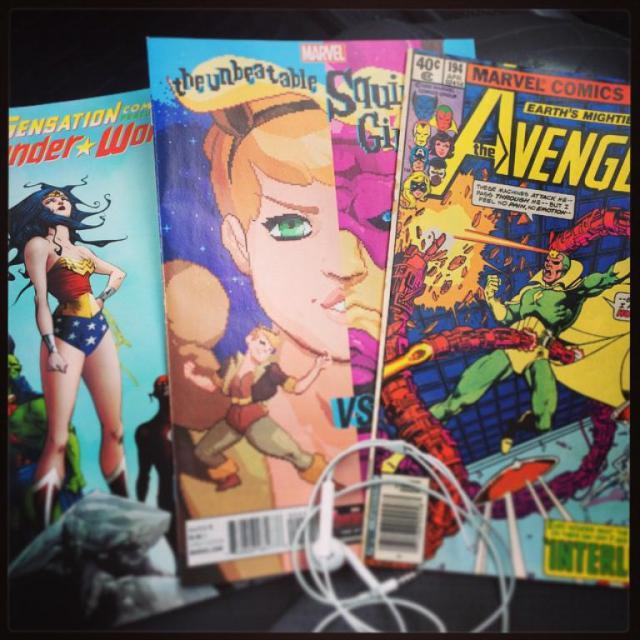book: (146, 34, 482, 590), (373, 21, 621, 515)
